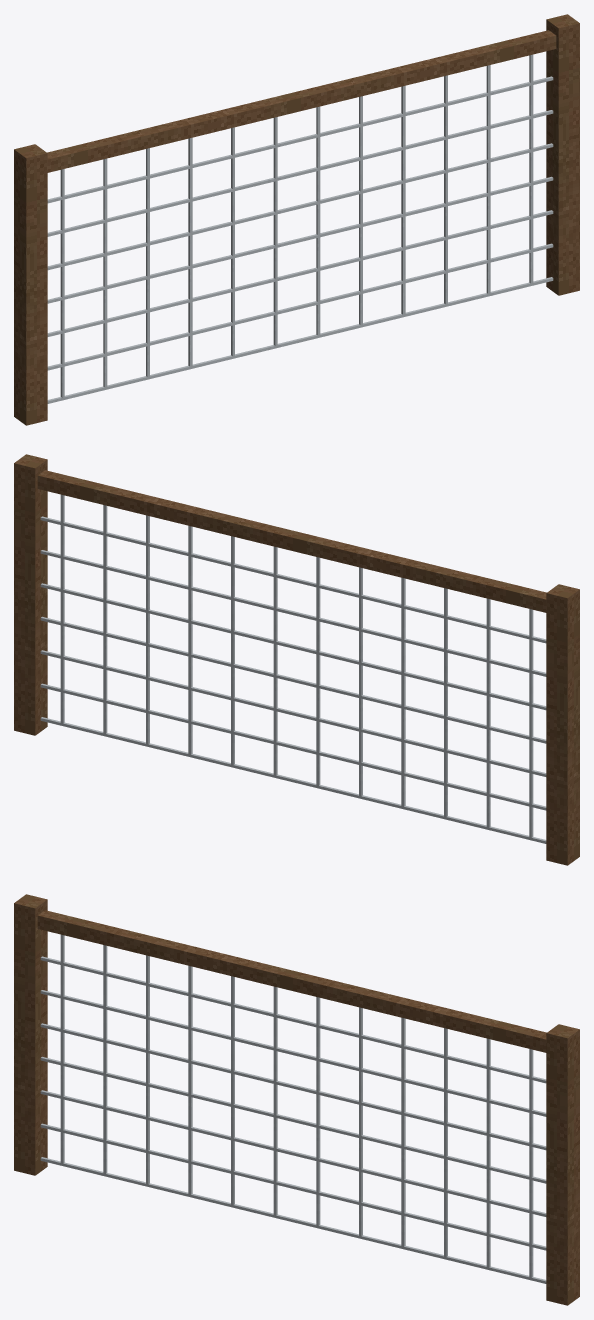
3 renders of one model, top to bottom at view 1: azimuth 30°, elevation 25°; view 2: azimuth 150°, elevation 25°; view 3: azimuth 330°, elevation 25°, orthographic.
Parts seen in each view (by area): view 1: Decor_wire_panel; view 2: Decor_wire_panel; view 3: Decor_wire_panel.
Boxes of the visible parts, box(x1,y1,x2,y2) form: Decor_wire_panel: box(14, 14, 579, 425); Decor_wire_panel: box(14, 454, 579, 865); Decor_wire_panel: box(14, 894, 579, 1305).
Bounding box in the file's own units: 2.6 × 1.2 × 0.1.
2 materials, 2 textured.
